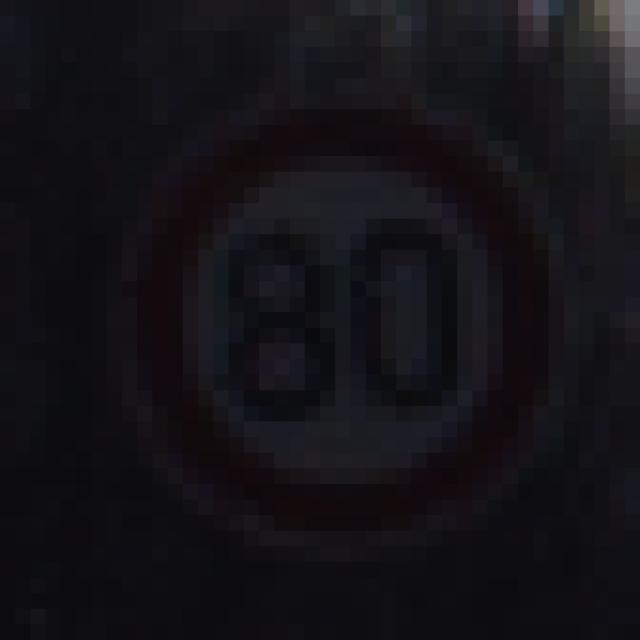Ograniczenie predkosci do 80: (128, 106, 567, 548)
